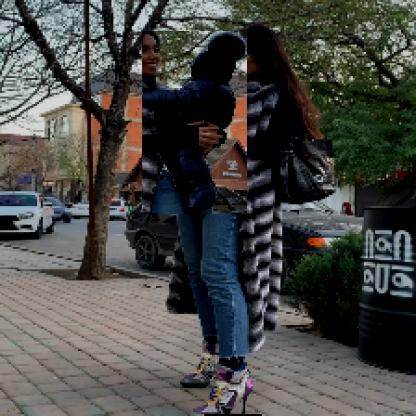child: (143, 33, 249, 217), (230, 44, 251, 78)
